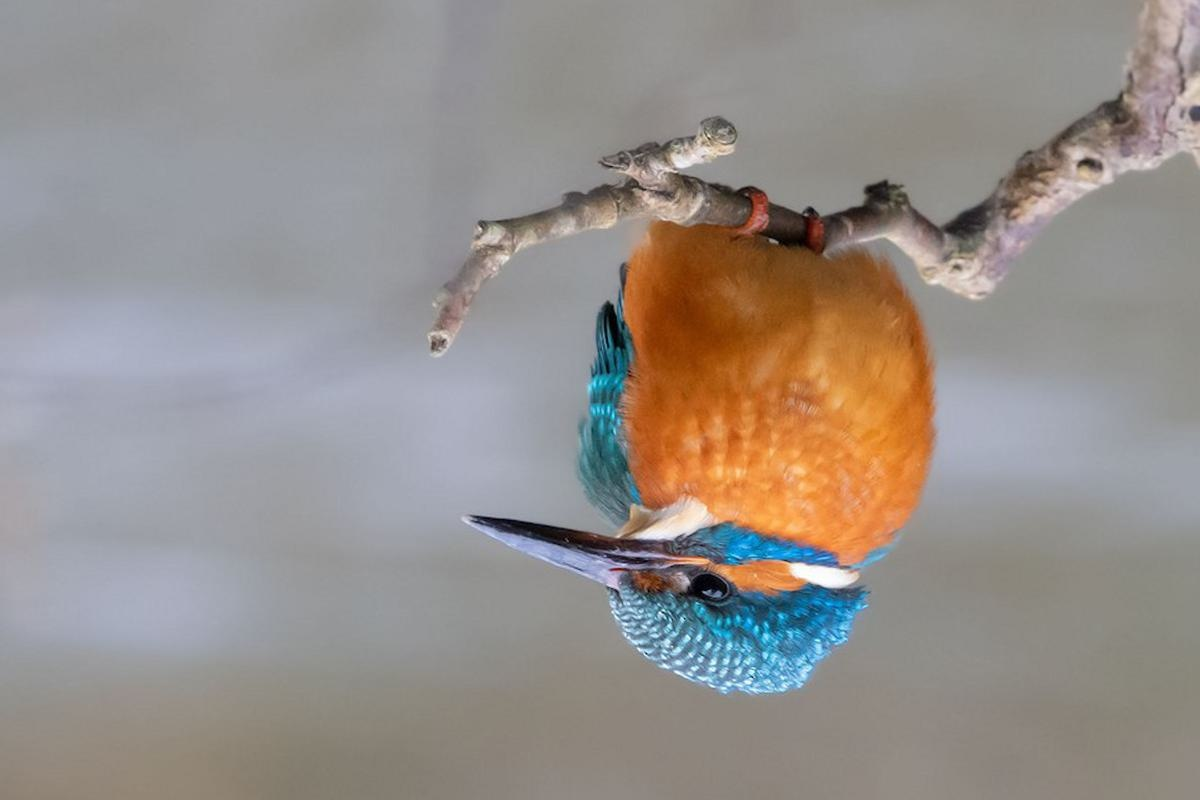kingfisher: (462, 208, 949, 713)
